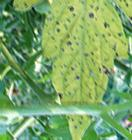Tomato Septoria leaf spot: (10, 0, 132, 140)
